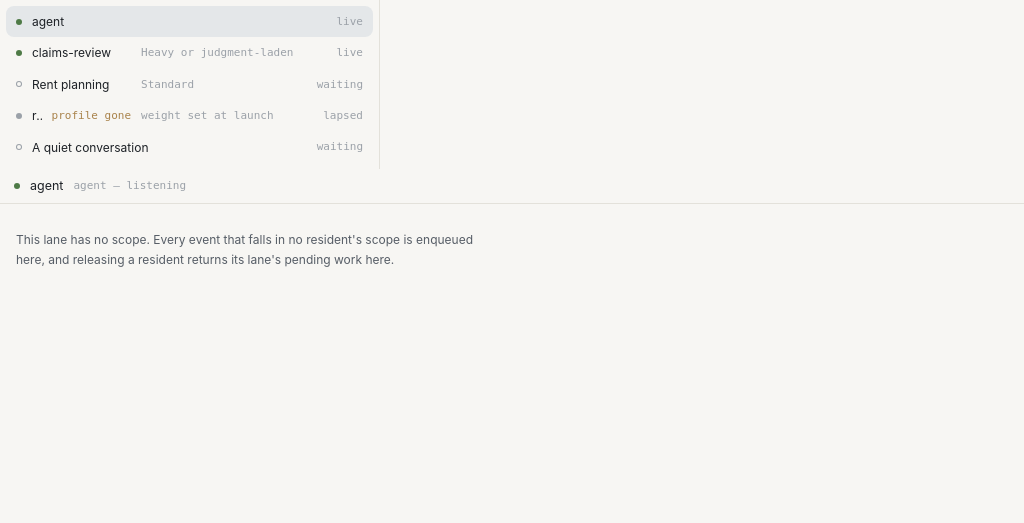
Test case: the scope pane › states the bound rather than presenting a cut page as the whole scope
This screenshot has width=1024, height=523.
Click the button "claims-review Heavy or judgment-laden live".
click(190, 53)  # box [6,37,373,69]
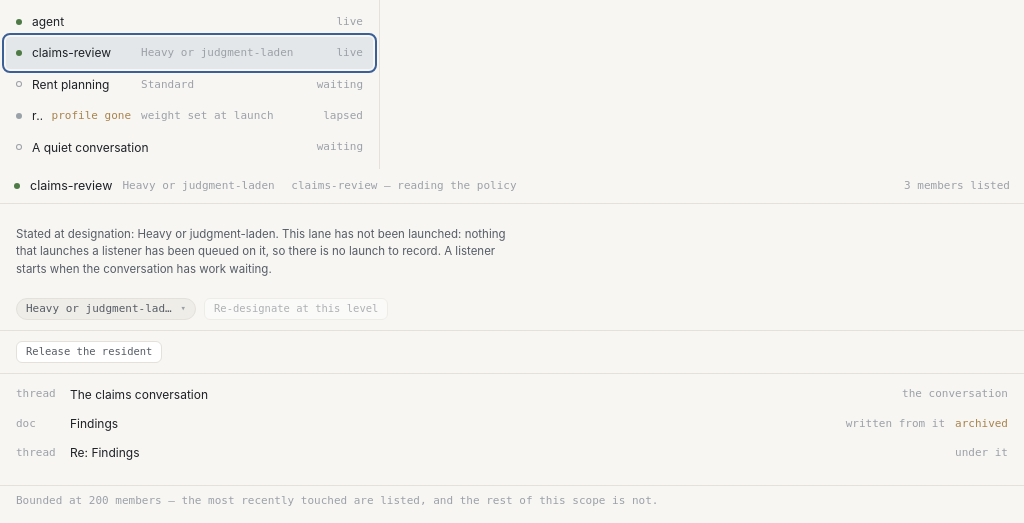
Now the text "3 members listed" is shown, box [904,178,1010,194]
